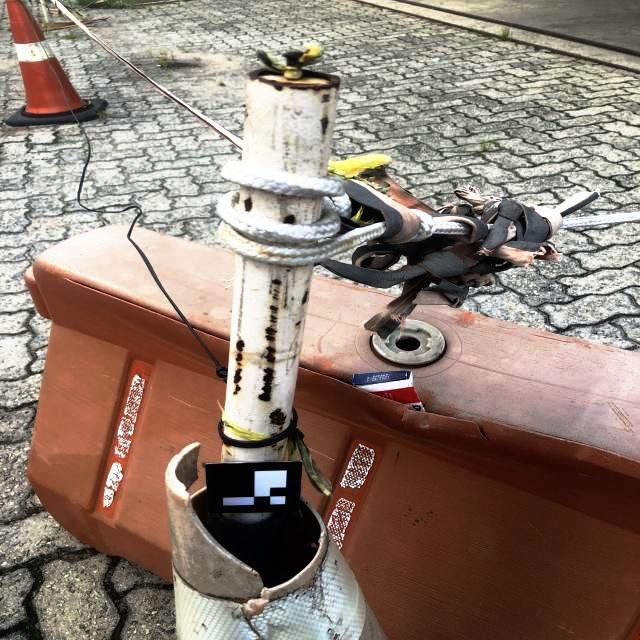Corrosion: (218, 70, 385, 462), (391, 0, 640, 58), (352, 0, 502, 39), (510, 39, 640, 74), (247, 68, 340, 93), (258, 366, 276, 403), (268, 408, 288, 427), (283, 51, 303, 66), (264, 324, 278, 344), (263, 345, 277, 365), (233, 367, 244, 384), (320, 117, 329, 136), (283, 214, 296, 225), (243, 198, 253, 212), (236, 338, 245, 352), (283, 284, 288, 309), (271, 288, 280, 301), (271, 277, 282, 287), (232, 383, 241, 395), (302, 290, 309, 305), (321, 94, 331, 103), (269, 304, 279, 313), (268, 314, 278, 323), (235, 352, 244, 362), (222, 441, 232, 447), (278, 445, 284, 451), (269, 433, 280, 436), (295, 321, 301, 326), (226, 450, 232, 455), (236, 362, 242, 366), (286, 268, 291, 272), (292, 355, 296, 359), (272, 444, 277, 447), (269, 290, 272, 294), (279, 426, 283, 429), (270, 285, 272, 287)
